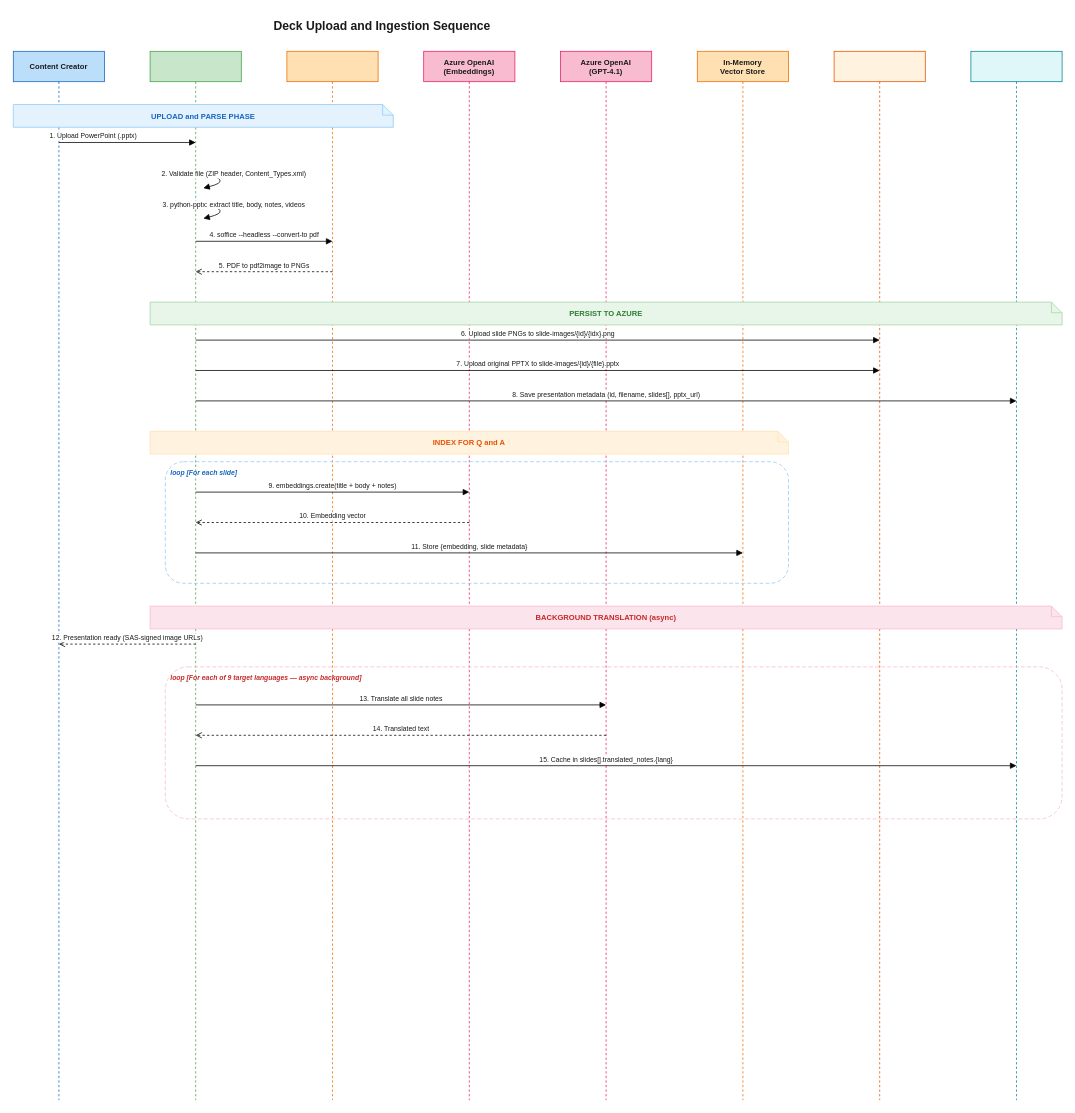
This 1075x1113 diagram has some shape labels left out. The shapes that lost their labels are listed below. From the top down, each one's box as (x1, y1, x2, y2) in pixels, then its label:
(149, 51, 241, 1100): Web Application (FastAPI)
(286, 51, 378, 1100): LibreOffice (headless)
(833, 51, 925, 1100): Azure Blob Storage
(970, 51, 1062, 1100): Azure Cosmos DB
